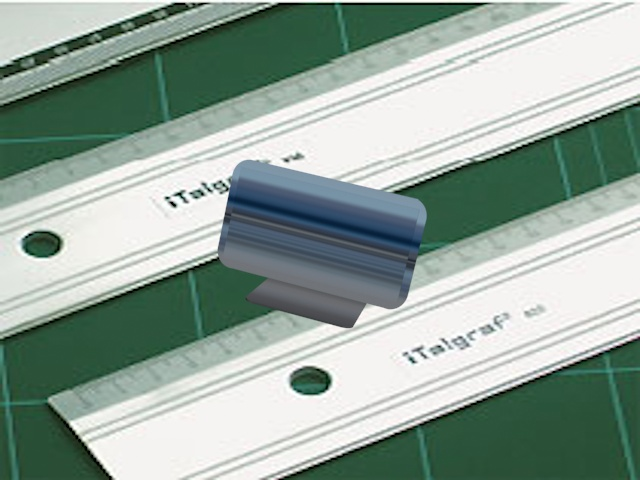monitor: (209, 153, 432, 336)
